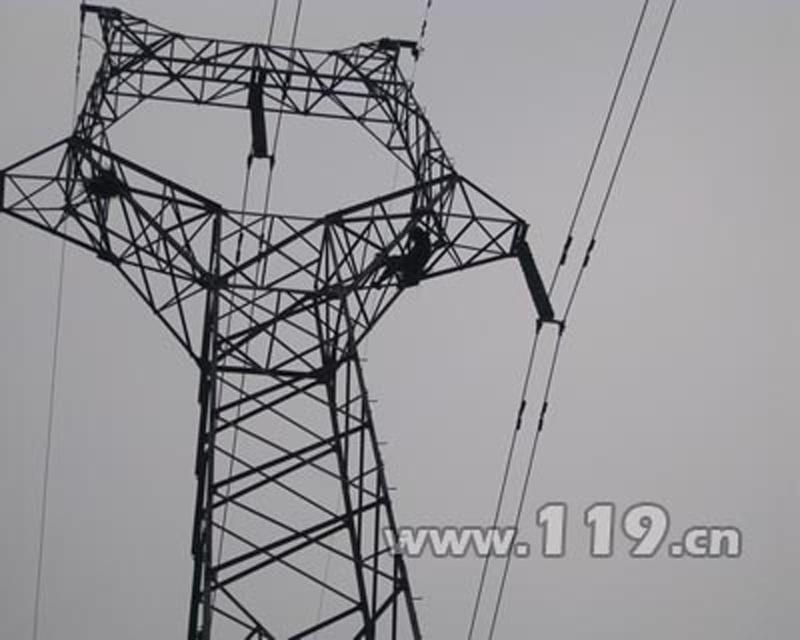power_tower: (8, 7, 572, 633)
